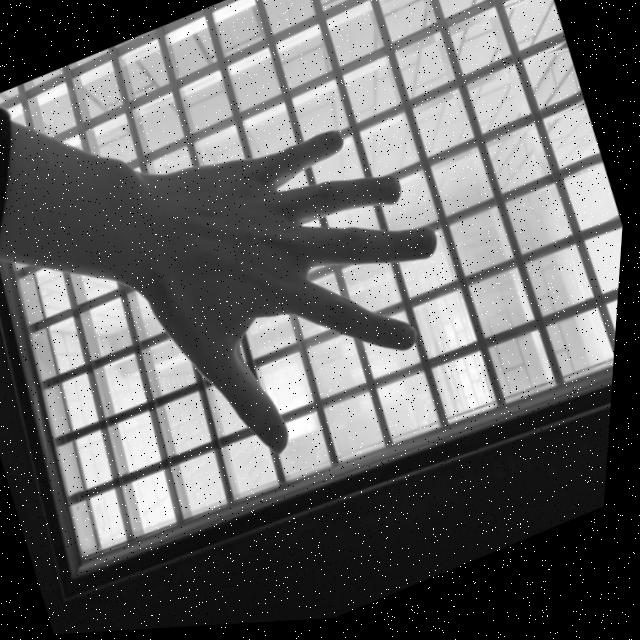hand: (110, 89, 501, 492)
